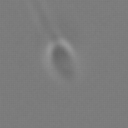normal: (27, 1, 56, 39)
